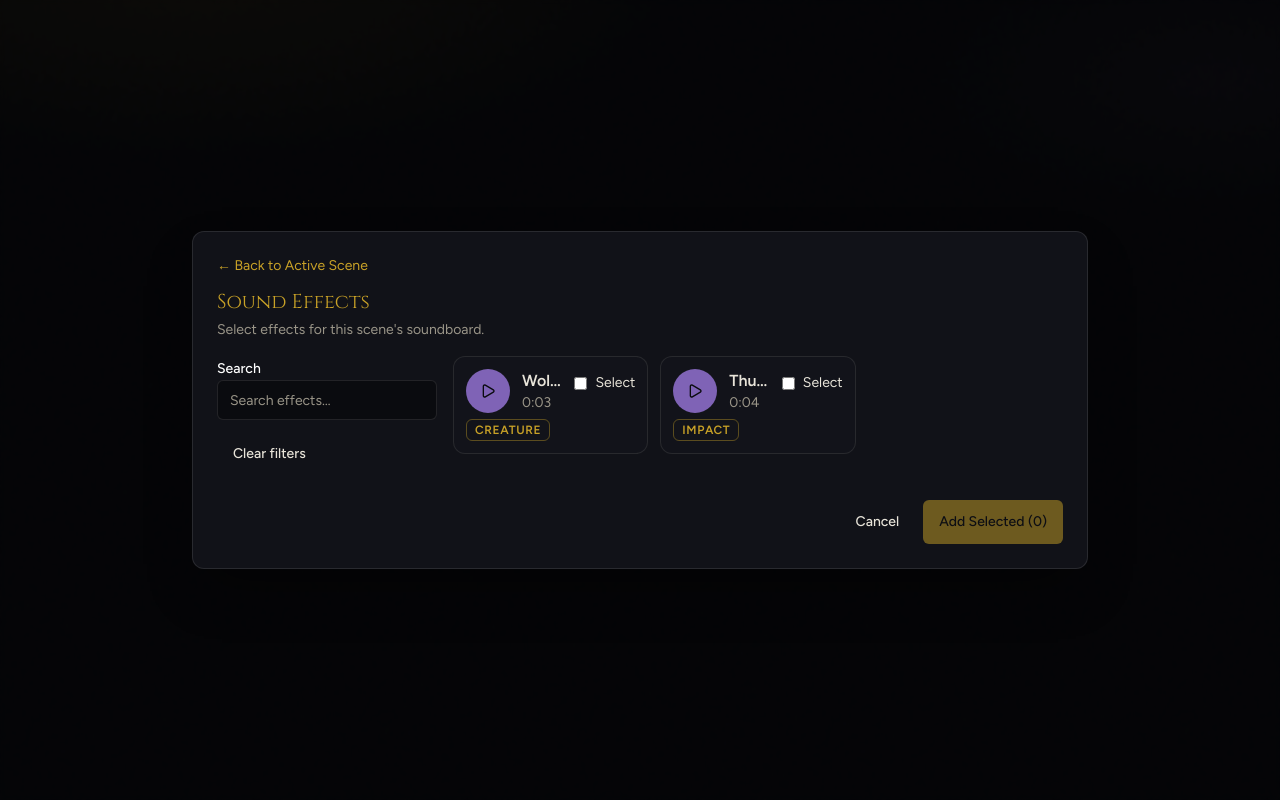
Test: FxPickerModal › shows a single clear-filters action after a no-match search
The width and height of the screenshot is (1280, 800).
Step 1. Type "nonexistent" into the field with placeholder "Search effects…" → point(327, 400), box [217, 380, 437, 420]
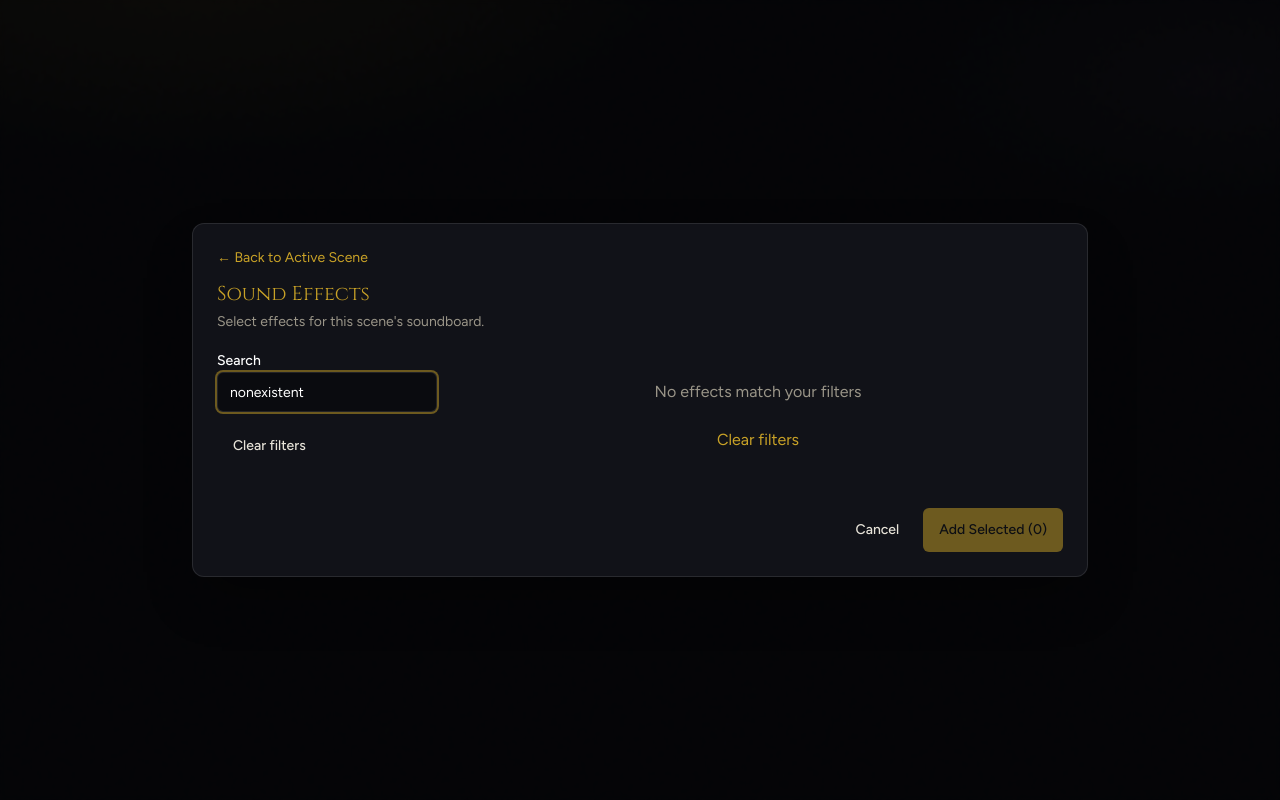
Result: the text "No effects match your filters" is shown at [655, 382, 861, 401]
Step 2. Click the button "Clear filters" below "Search" → point(269, 446), box [217, 424, 322, 468]
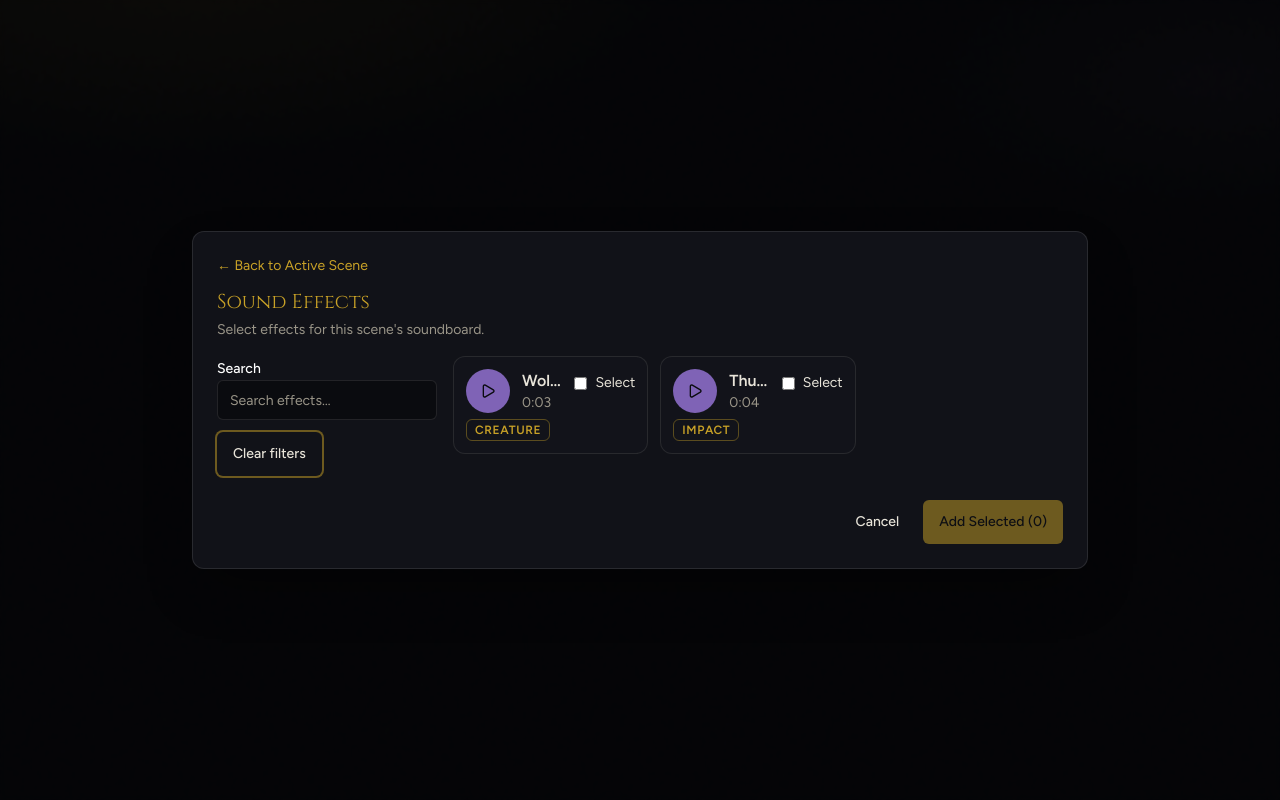
Result: the text "Thunder Crack" is shown at [729, 369, 770, 393]
